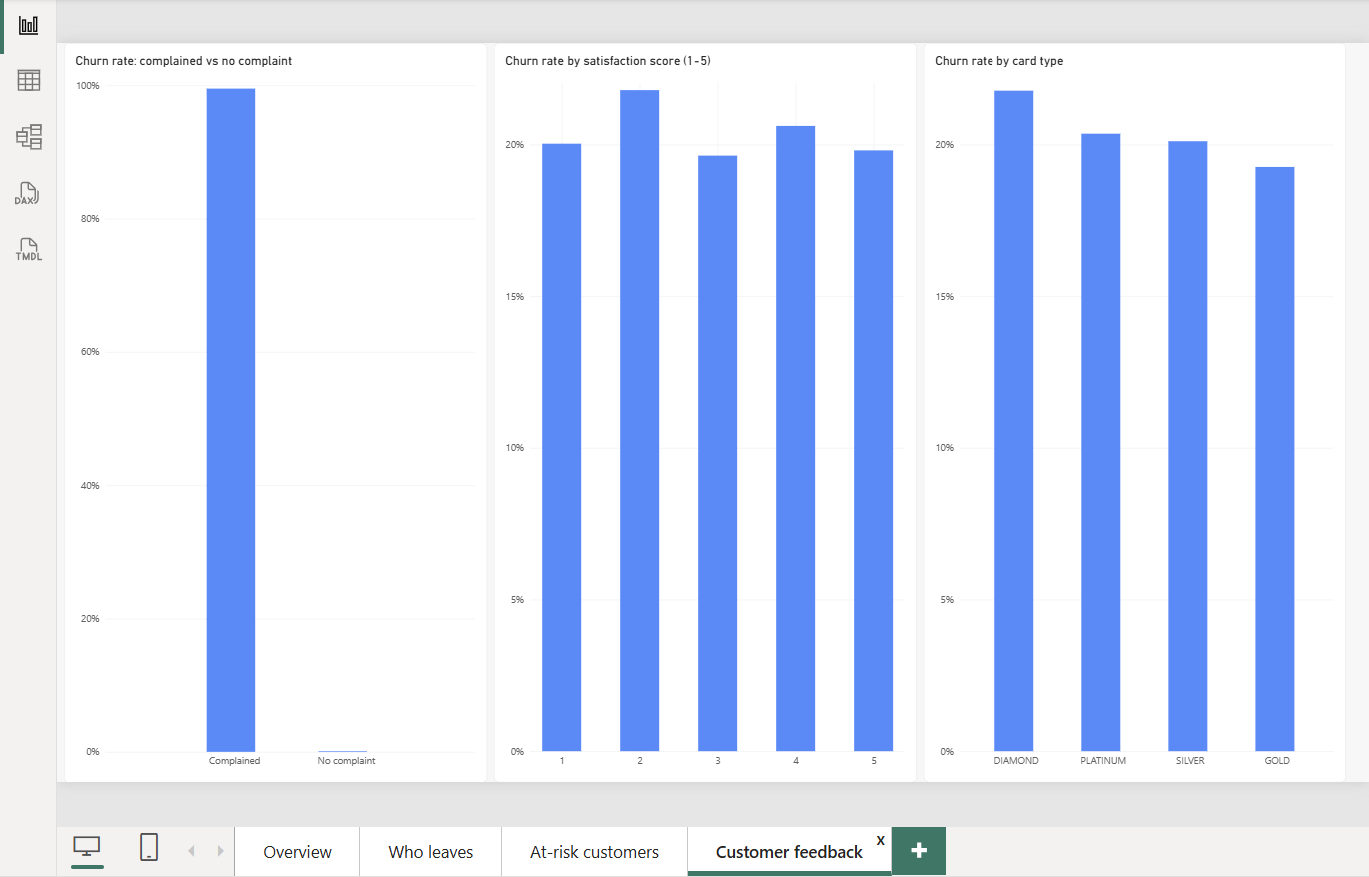

Layout of this report page (visuals, bound fields, positions):
{"tool":"powerbi","page":{"name":"Customer feedback","canvas":[1920,1080],"ordinal":3},"visuals":[{"type":"clusteredColumnChart","title":"Churn rate: complained vs no complaint","fields":{"Category":["bank_customers.Complaint Status"],"Y":["bank_customers.Churn Rate"]},"box":[10.2,0,618,1081],"z":0},{"type":"clusteredColumnChart","title":"Churn rate by satisfaction score (1-5)","fields":{"Category":["bank_customers.Satisfaction Score"],"Y":["bank_customers.Churn Rate"]},"box":[638,0,618,1080],"z":1},{"type":"clusteredColumnChart","title":"Churn rate by card type","fields":{"Category":["bank_customers.Card Type"],"Y":["bank_customers.Churn Rate"]},"box":[1266,0,618,1080],"z":2}]}

Visuals, with their boxes on the page's 1920x1080 design canvas (x1, y1, x2, y2). These are canvas units, not pixel positions in the 1369x877 screenshot, which may show the page scaled, cropped or inside an application window:
"Churn rate: complained vs no complaint" clusteredColumnChart: box(10, 0, 628, 1081)
"Churn rate by satisfaction score (1-5)" clusteredColumnChart: box(638, 0, 1256, 1080)
"Churn rate by card type" clusteredColumnChart: box(1266, 0, 1884, 1080)
